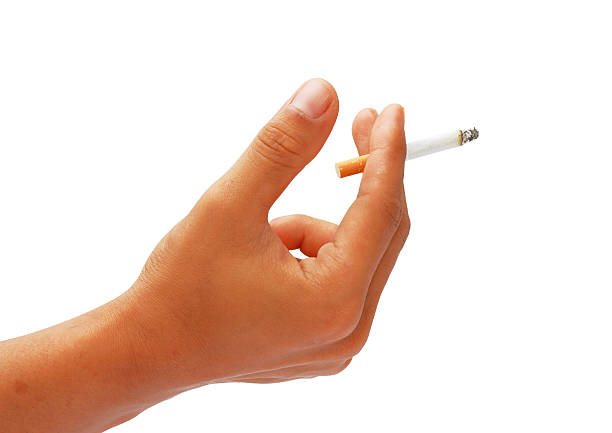cigarette: (334, 127, 479, 178)
